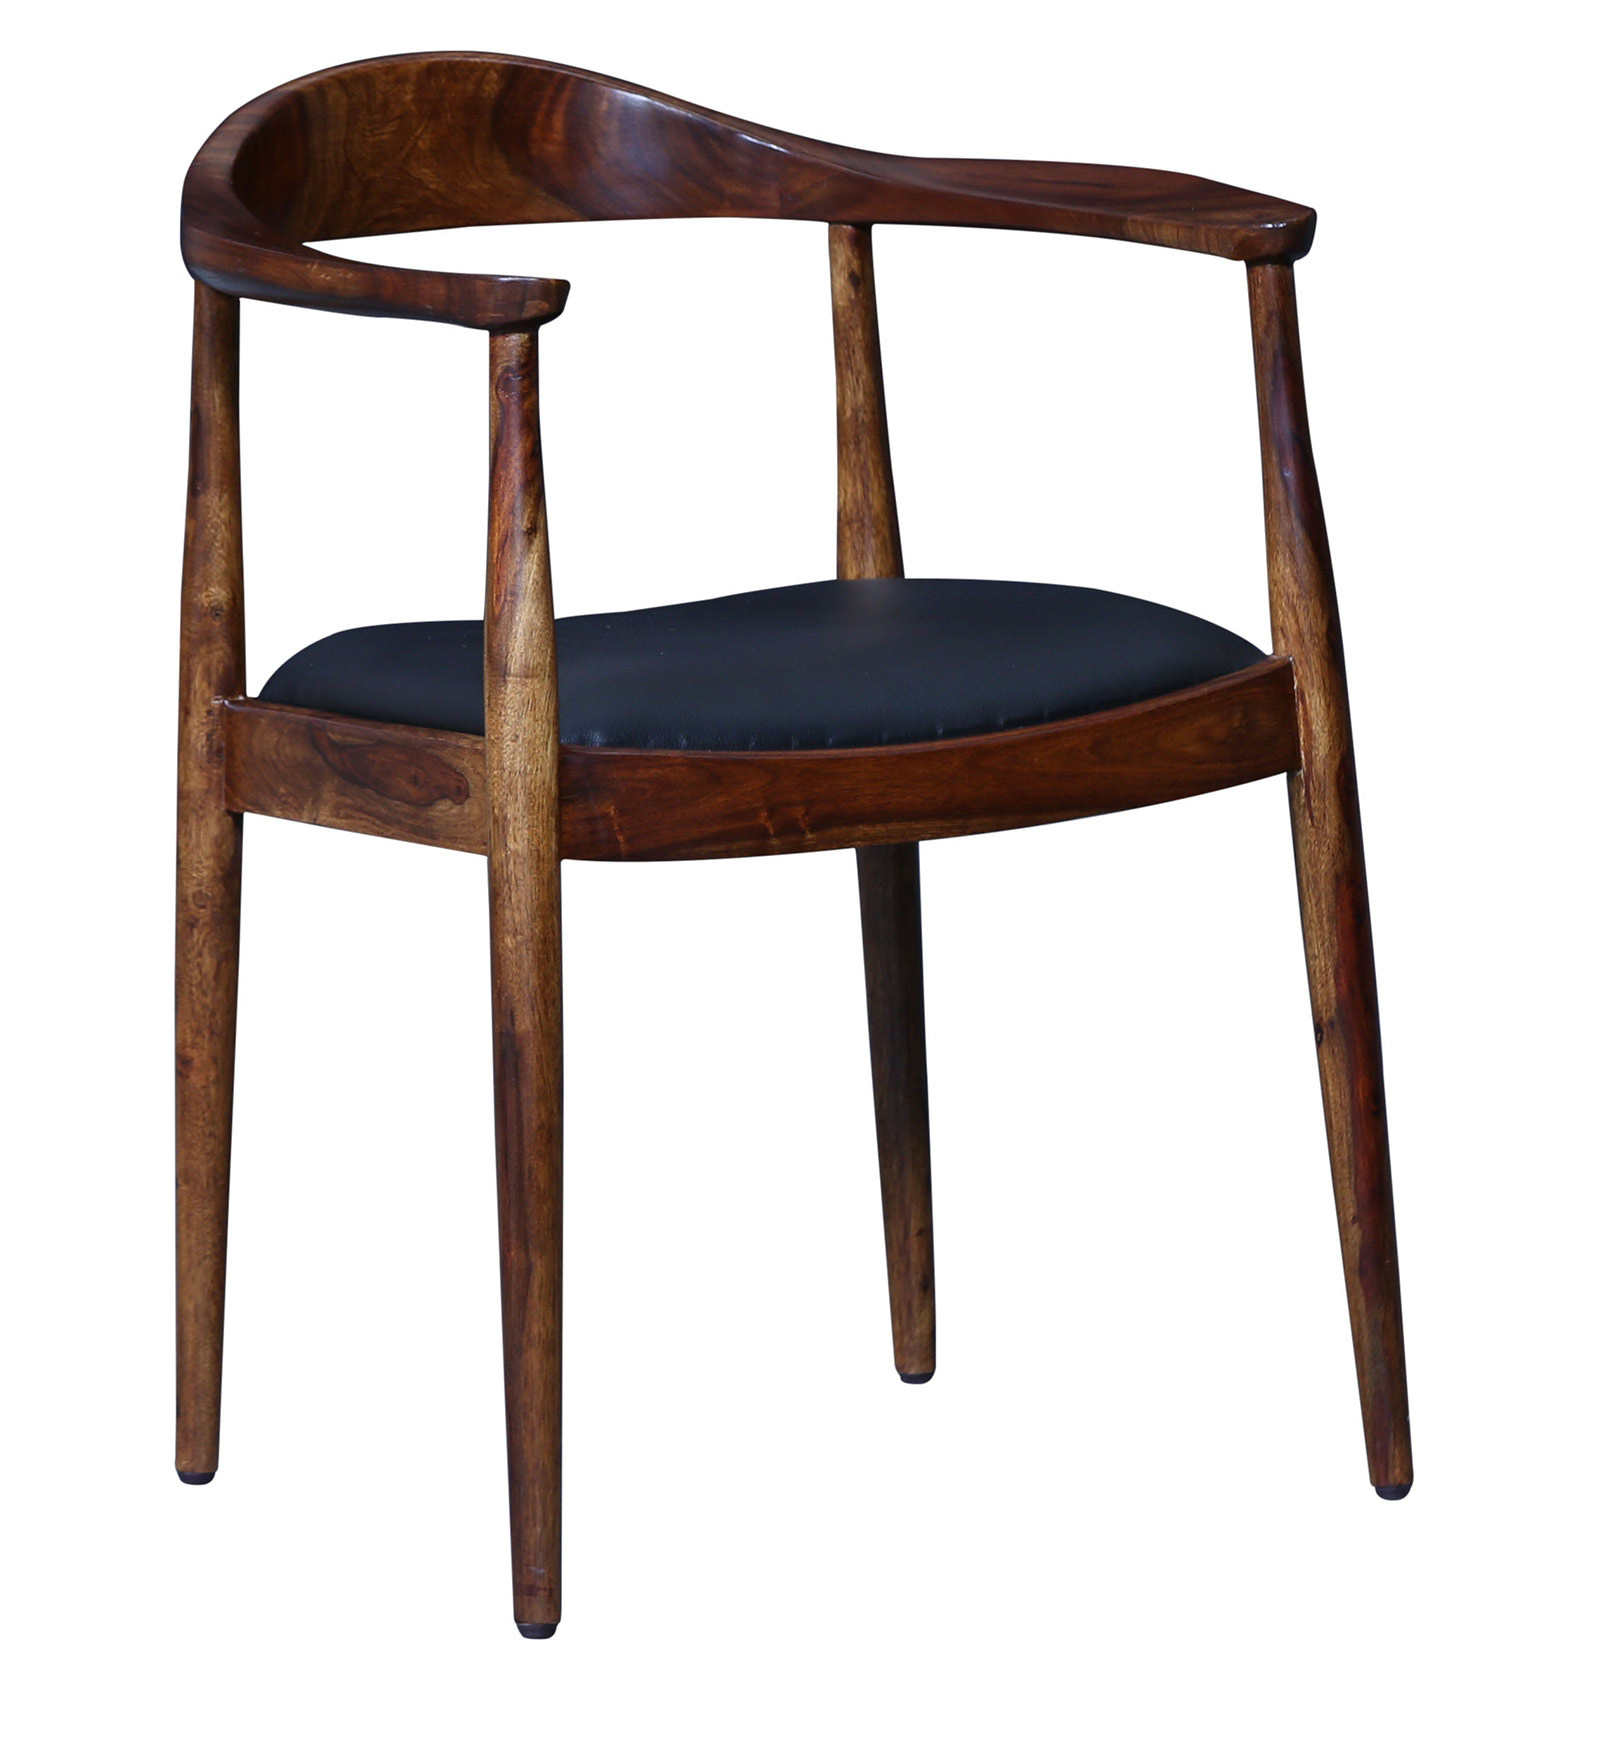Esvelt Arm Chair in Provincial Teak Finish by Woodsworth: (104, 35, 1485, 1685)
